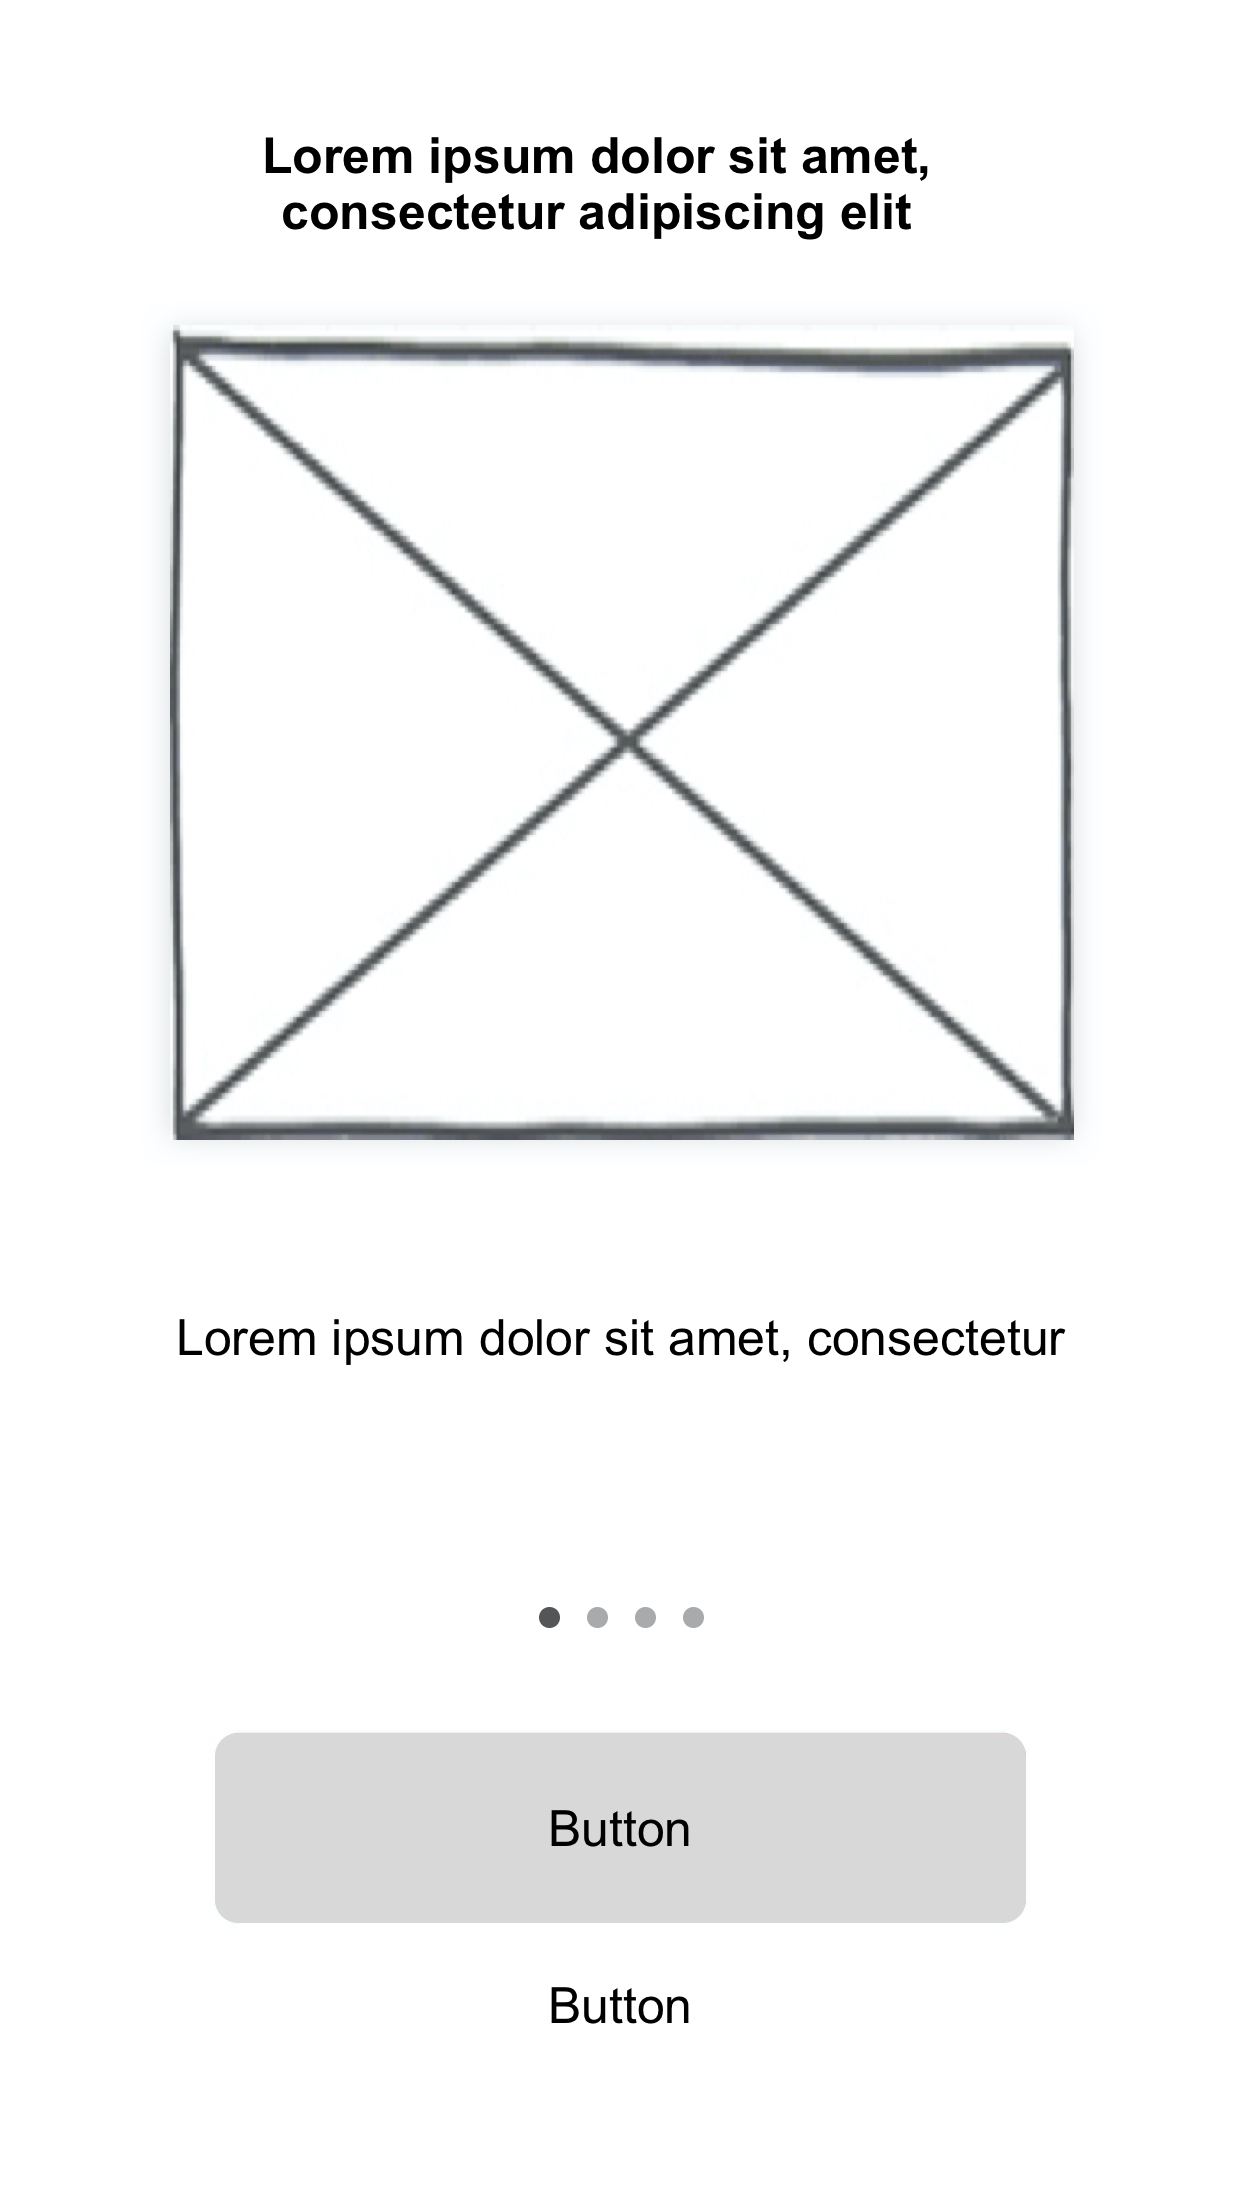Image: (171, 325, 1077, 1142)
PageIndicator: (538, 1604, 707, 1630)
Text: (262, 136, 930, 241), (177, 1318, 1068, 1366), (550, 1987, 692, 2026)
TextButton: (214, 1730, 1028, 1926)
